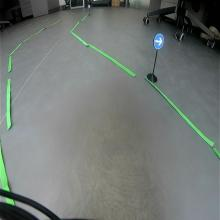right: (153, 32, 165, 50)
